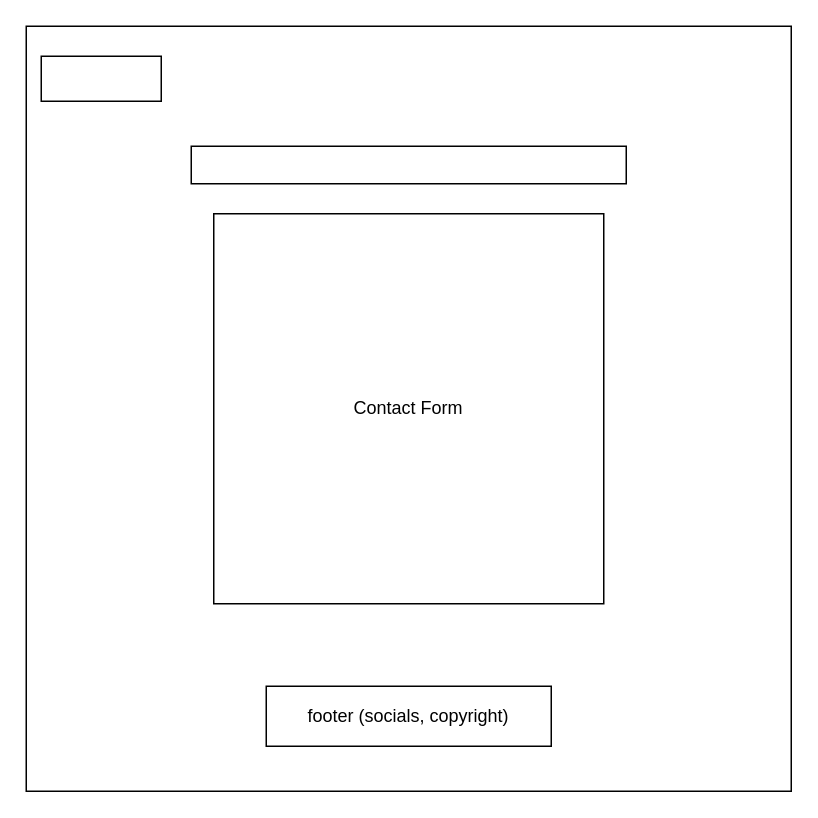
This 818x818 diagram has some shape labels left out. The box of each missing label's shape, as (x1, y1, x2, y2) in pixels:
Nav: Burger: (40, 55, 161, 101)
slogan / sentence: minimised: (190, 145, 626, 184)
